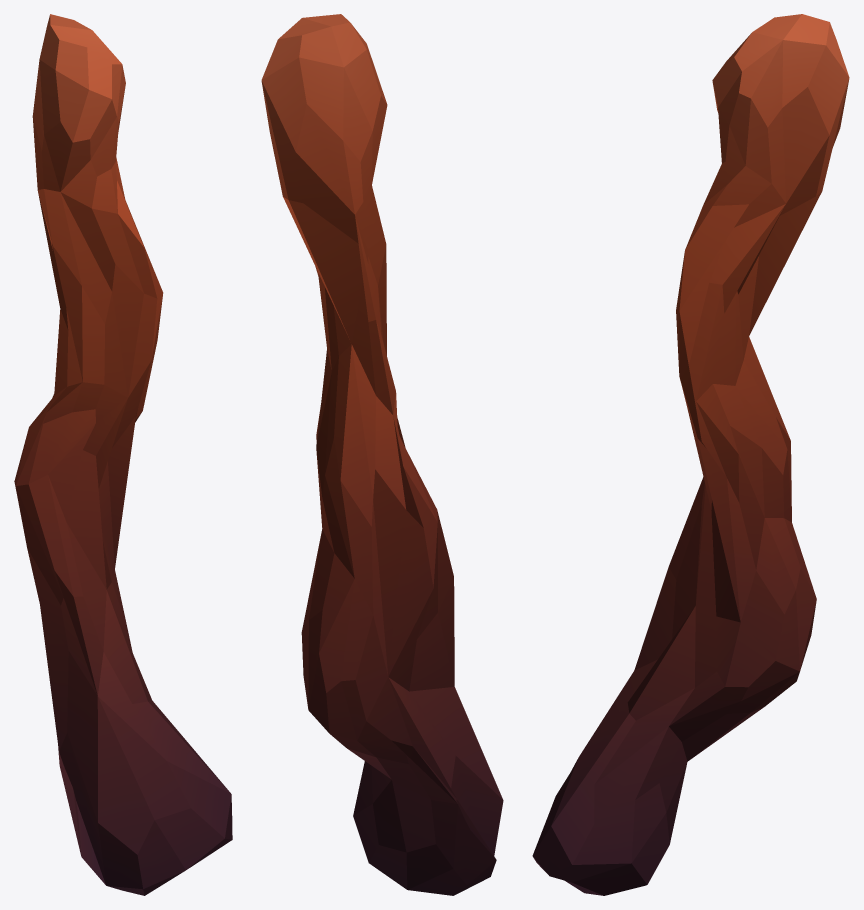
Rendered from 01_twig_02.fbx.
3 views of the same model, side by side, from view 1: azimuth 30°, elevation 25°; view 2: azimuth 150°, elevation 25°; view 3: azimuth 270°, elevation 25° (orthographic). The views are drawn at different scales.
Visible parts, largest first — view 1: 01 twig_02; view 2: 01 twig_02; view 3: 01 twig_02.
Boxes of the visible parts, x1,y1,x2,y2 form: 01 twig_02: (14,14,232,895); 01 twig_02: (261,14,503,895); 01 twig_02: (532,14,849,895).
Bounding box in the file's own units: 23.62 × 129 × 41.96.
